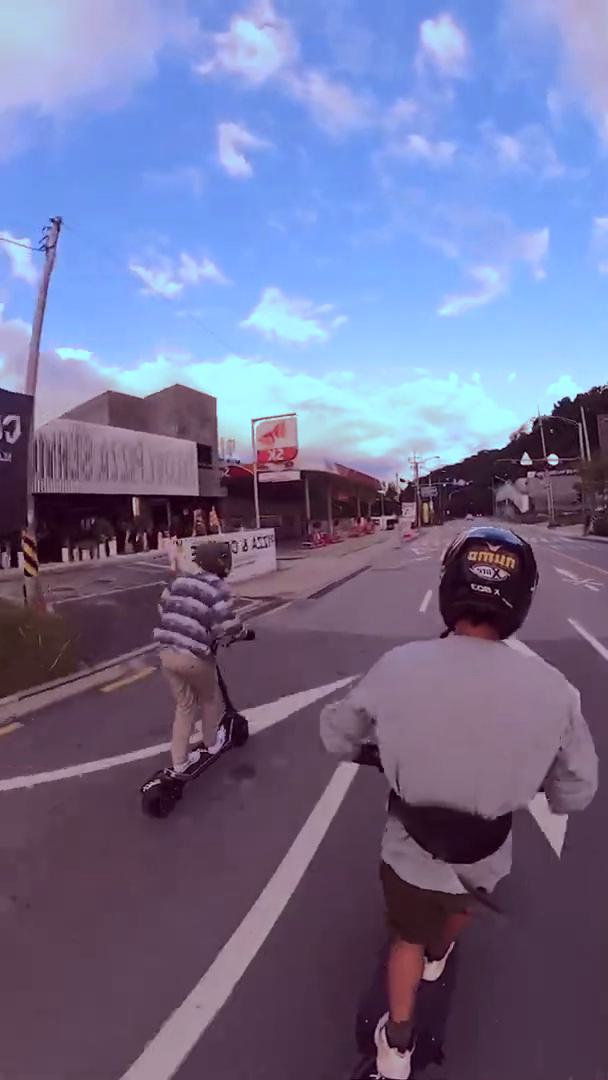helmet: (314, 525, 601, 1080), (137, 538, 255, 823)
